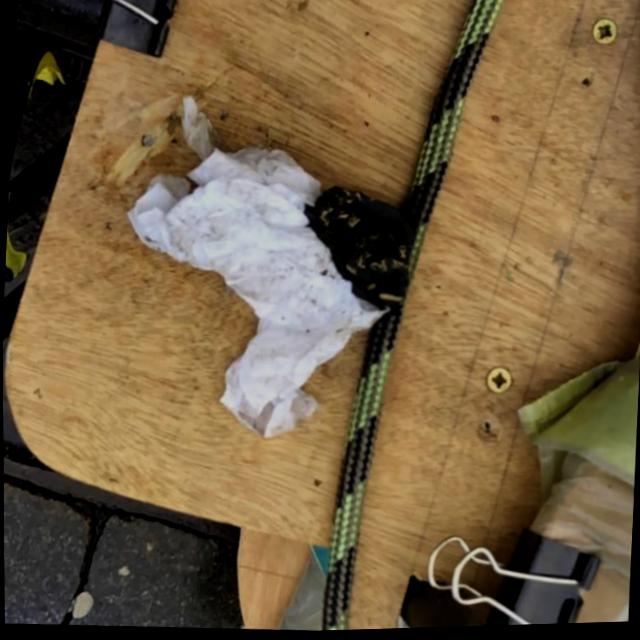Paper: (110, 84, 402, 451)
